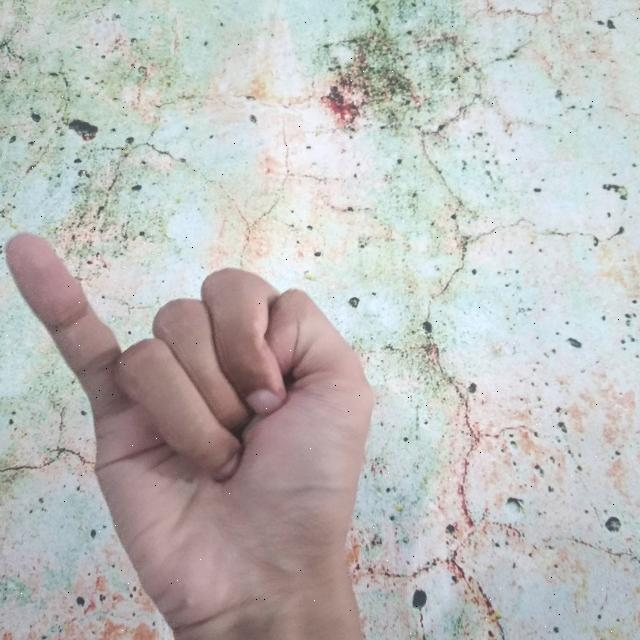I: (3, 211, 384, 640)
